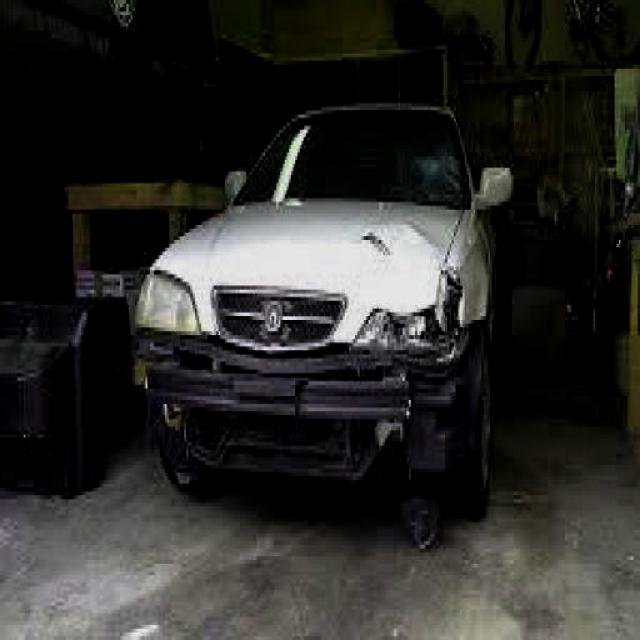car damage: (130, 226, 463, 499)
